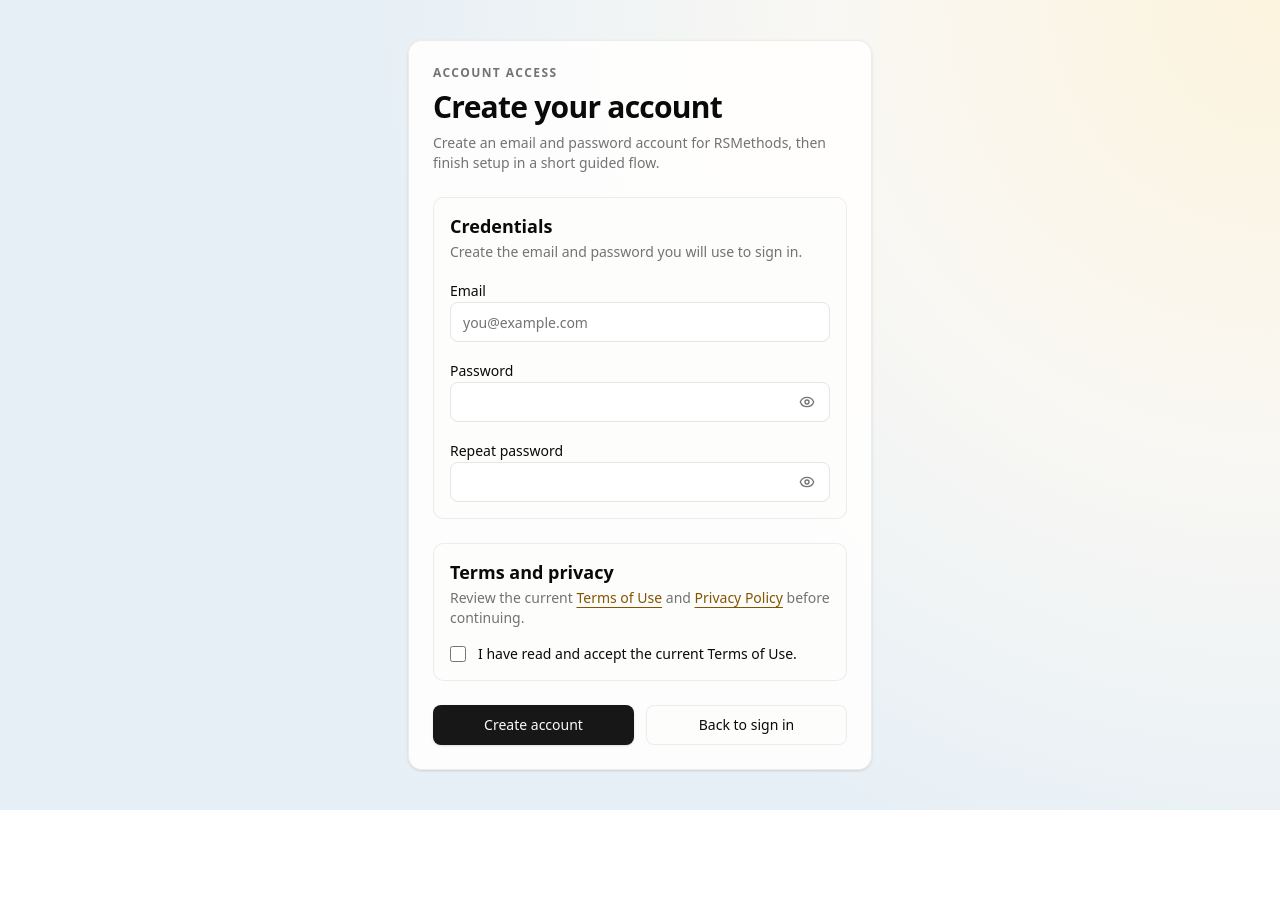
CreateAccountPage › blocks account creation when the repeated password does not match
The image size is (1280, 900).
Type "user@example.com" into the field labelled "Email". click: [640, 322]
box: [450,302,830,342]
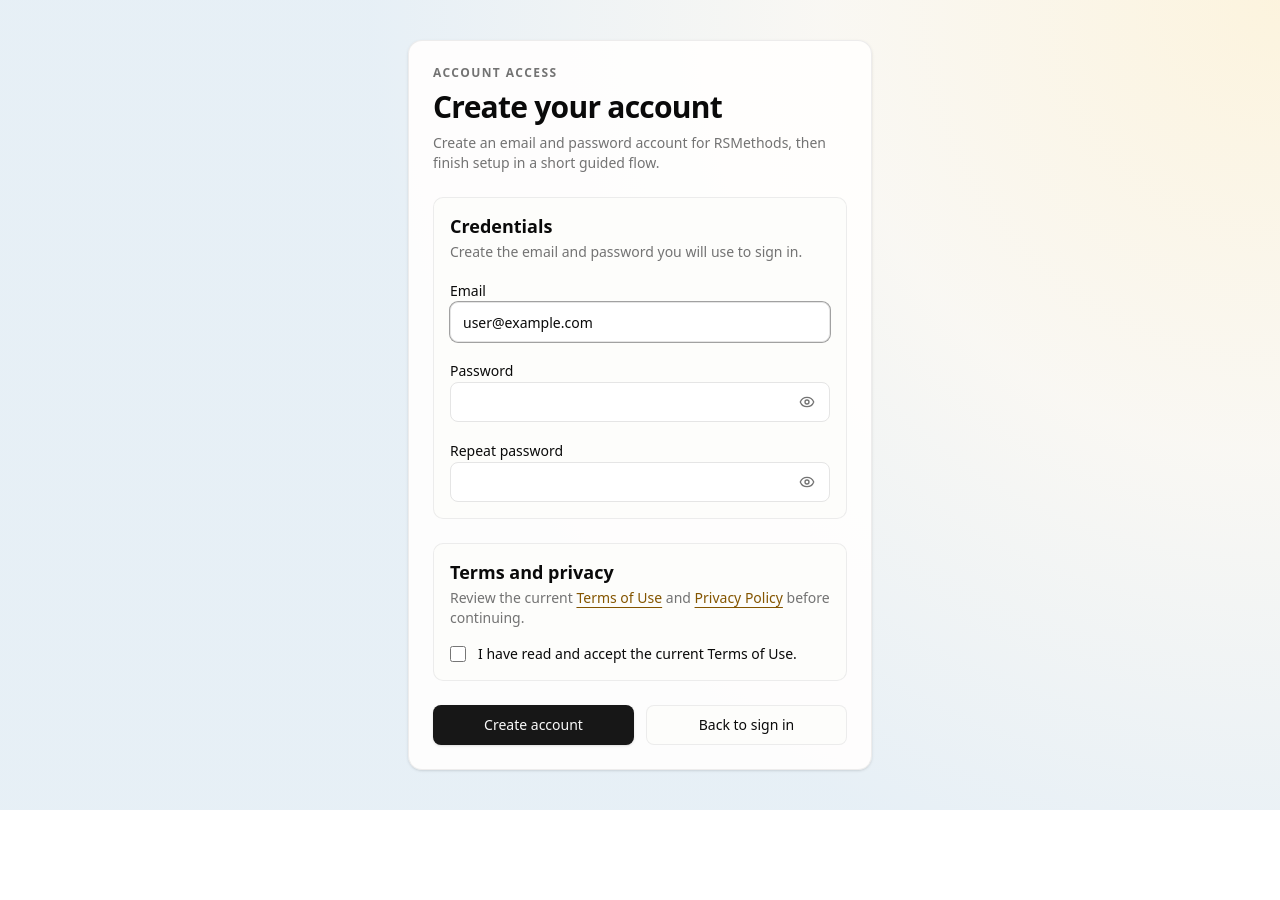
Type "password123" into the password field labelled "Password". click: [621, 402]
box: [451,382,791,422]
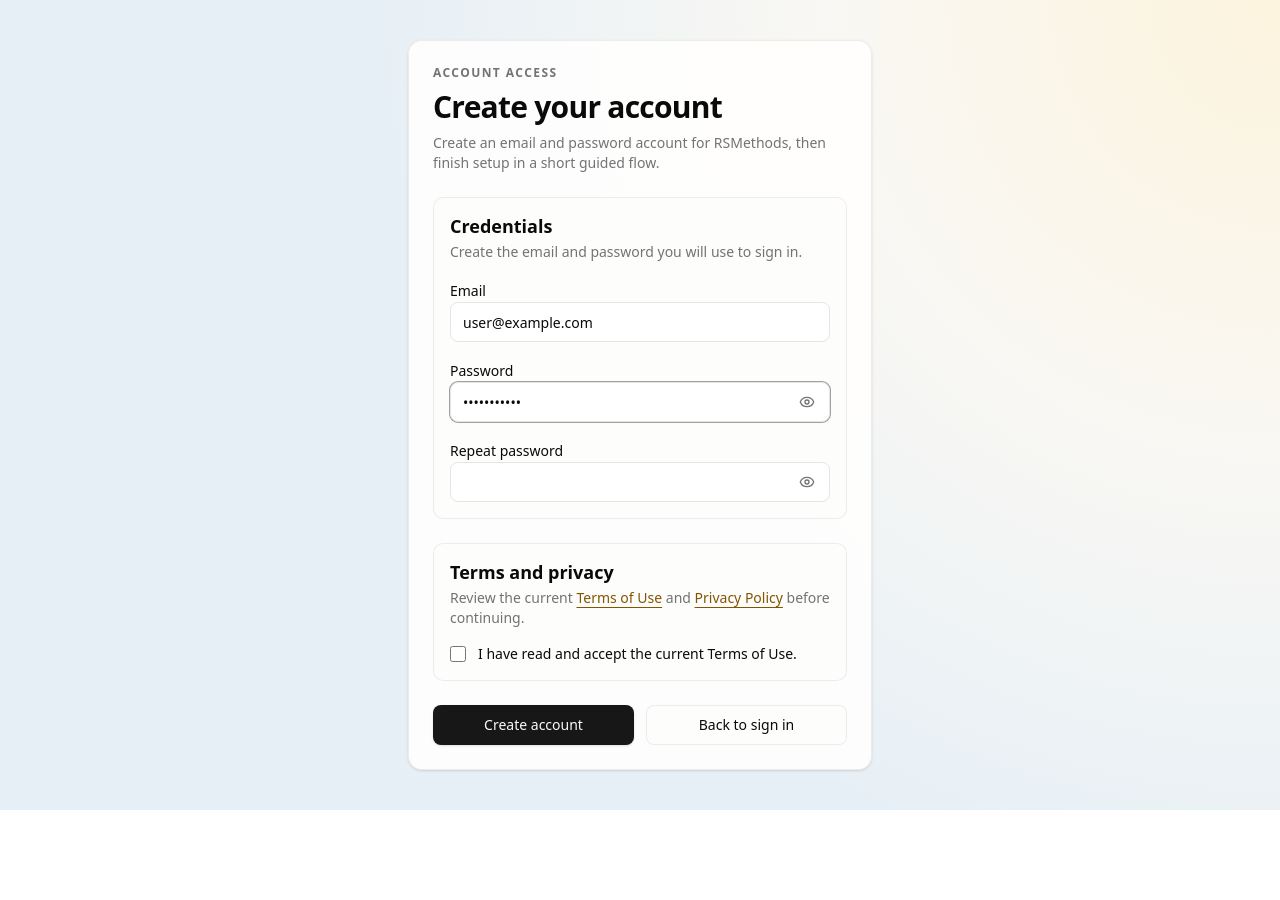
Type "password999" into the password field labelled "Repeat password". click: [621, 482]
box: [451,462,791,502]
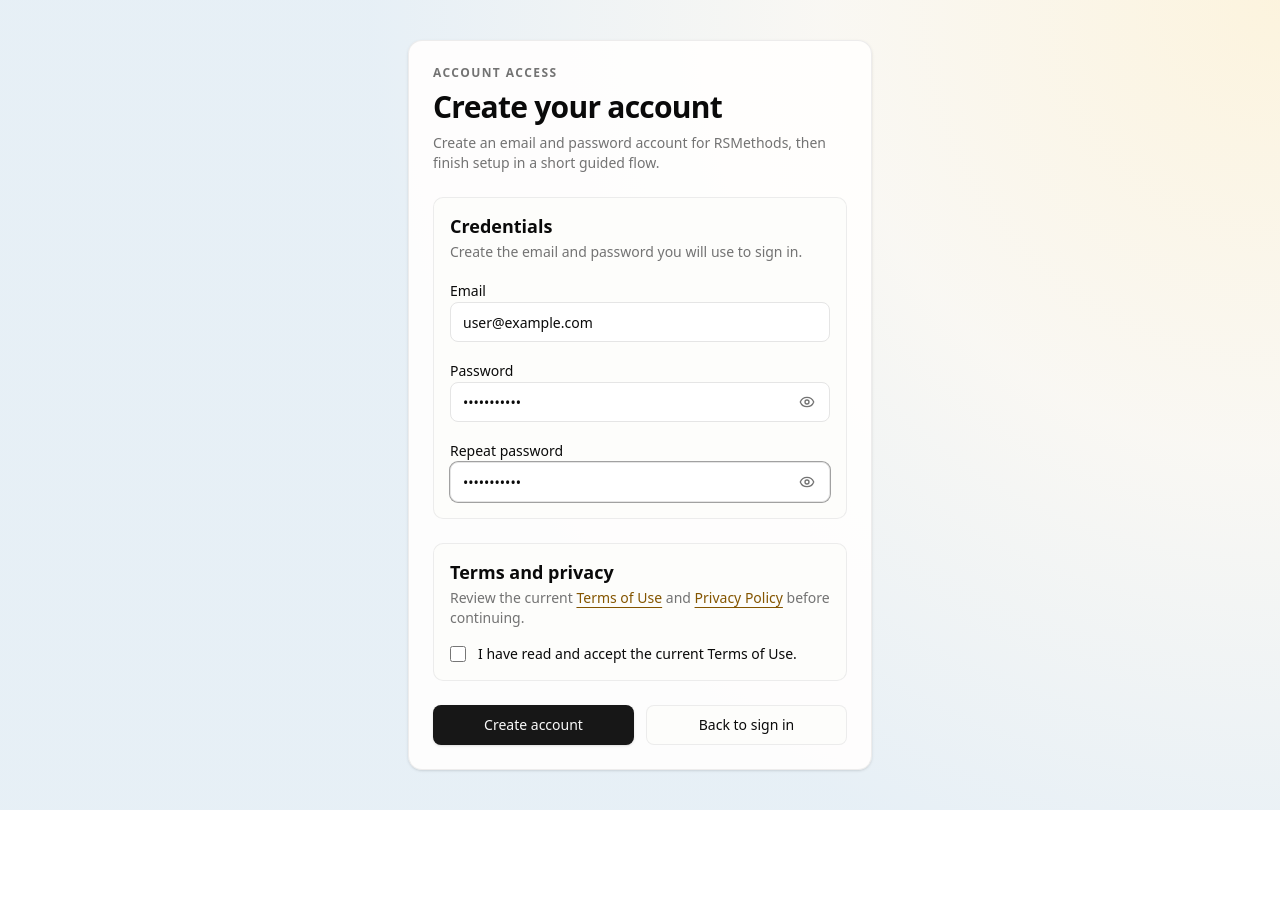
Click the checkbox labelled "I have read and accept the current Terms of Use.". click: [458, 654]
box: [450,646,466,662]
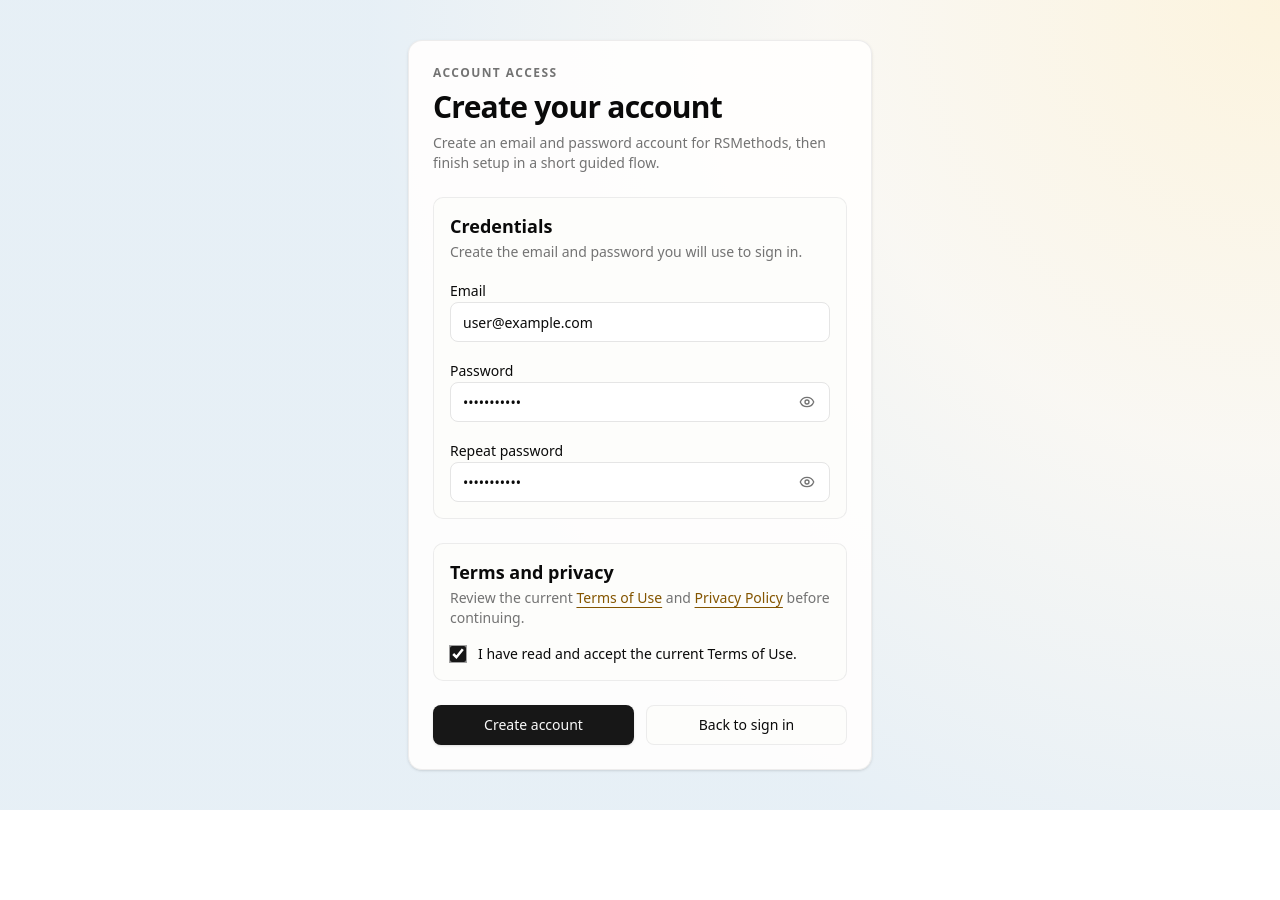
Click the button "Create account". click: [534, 725]
box: [433,705,634,745]
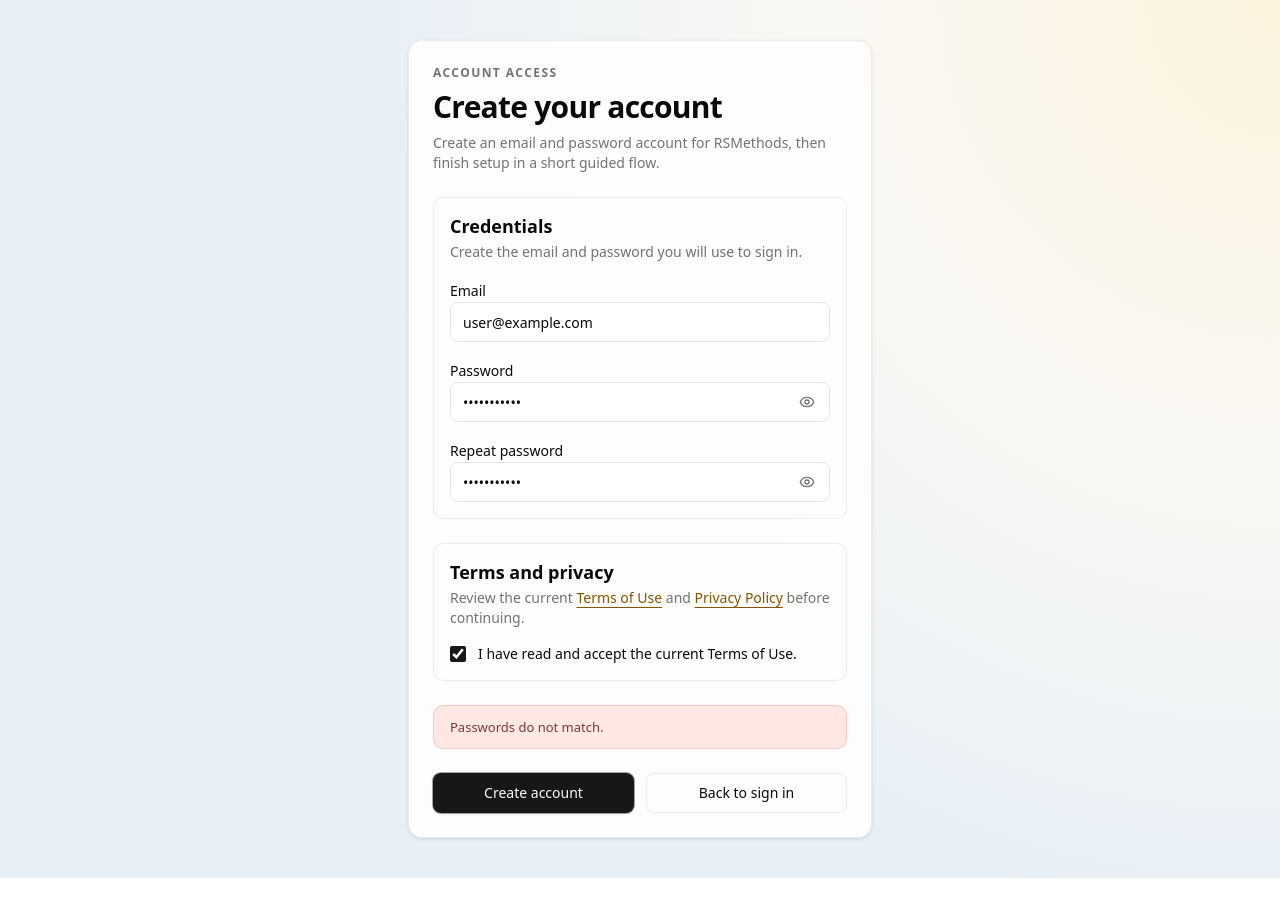
Now the text "Passwords do not match." is shown, box [433,705,847,749]
